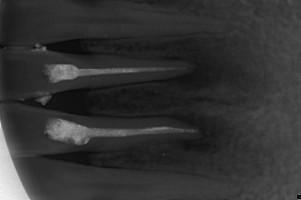Furcation Involvement: (172, 37, 282, 109), (169, 112, 230, 153)
